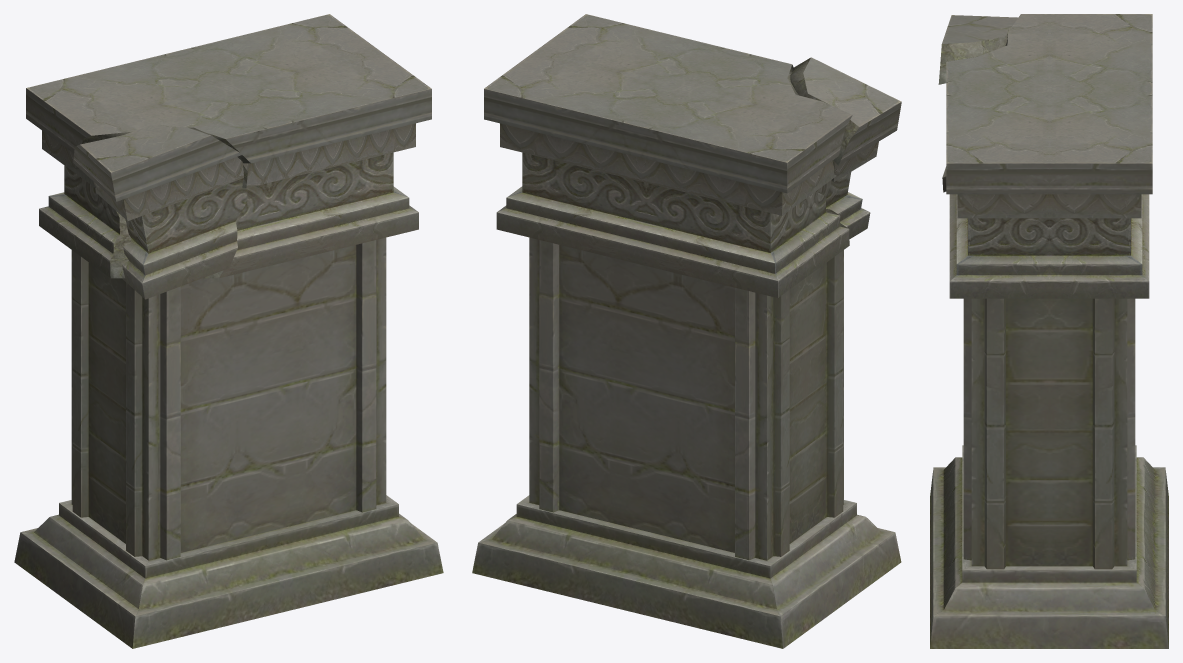
Rendered from wlf_wujian03_jgc.FBX.
The picture shows the model from 3 angles, left to right: view 1: azimuth 30°, elevation 25°; view 2: azimuth 150°, elevation 25°; view 3: azimuth 270°, elevation 25°; orthographic projection.
Visible parts, largest first — view 1: wlf_wujian03_jgc; view 2: wlf_wujian03_jgc; view 3: wlf_wujian03_jgc.
Part boxes in pixels (x1,y1,x2,y2): wlf_wujian03_jgc: (14,14,443,648); wlf_wujian03_jgc: (472,14,901,648); wlf_wujian03_jgc: (930,14,1168,648).
Bounding box in the file's own units: 33.56 × 48.67 × 21.35.
